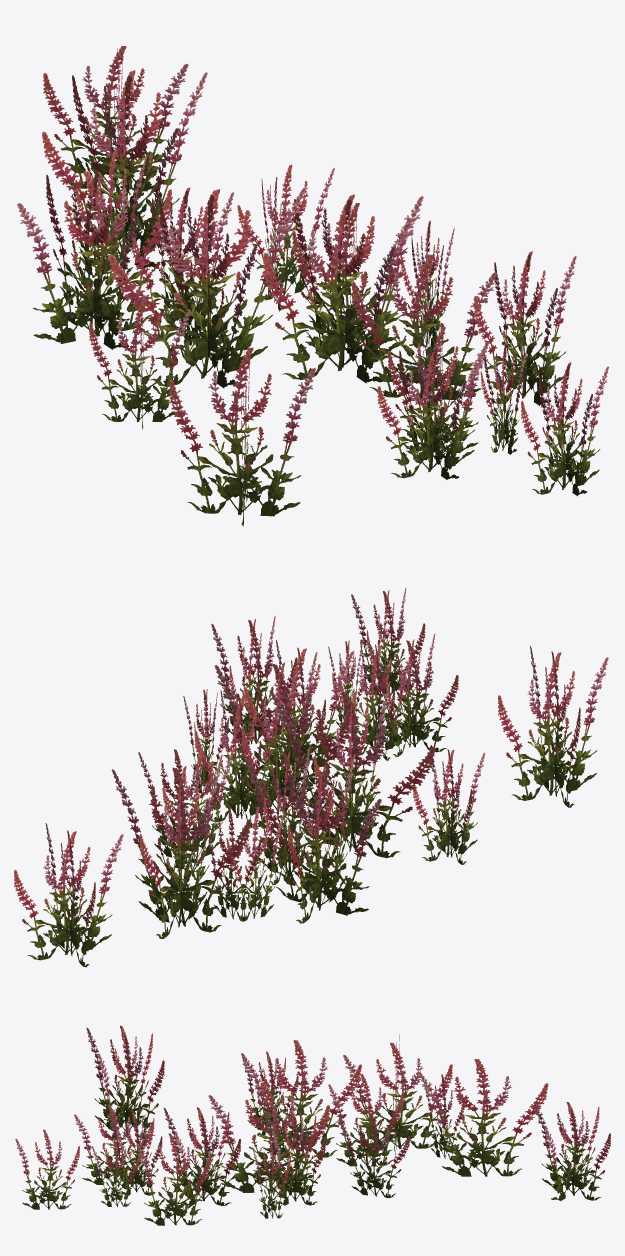
Rendered from new_grass_02.FBX.
3 views of the same model, one above another, from view 1: azimuth 30°, elevation 25°; view 2: azimuth 150°, elevation 25°; view 3: azimuth 270°, elevation 25° (orthographic). The views are drawn at different scales.
Visible parts, largest first — view 1: new_grass_02; view 2: new_grass_02; view 3: new_grass_02.
Boxes of the visible parts, x1,y1,x2,y2 form: new_grass_02: (17, 45, 609, 526); new_grass_02: (14, 588, 608, 967); new_grass_02: (15, 1025, 610, 1225).
Size of the model in its own units: 235 by 104 by 449.
Materials: 1 (1 with a texture image).
